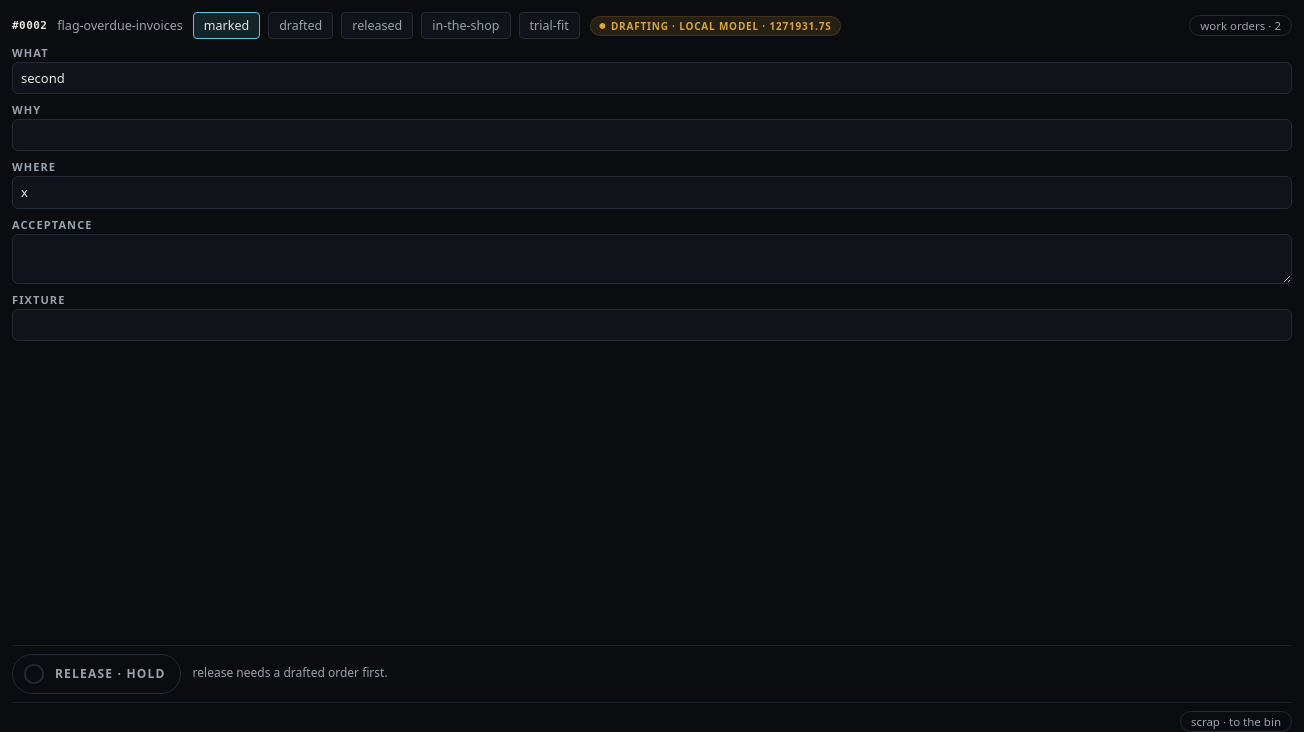
Test: TrayRegion — expanded: the spine › selecting a card collapses back to the order in hand
Click the button "work orders · 2" at (1241, 26), box [1189, 15, 1292, 36]
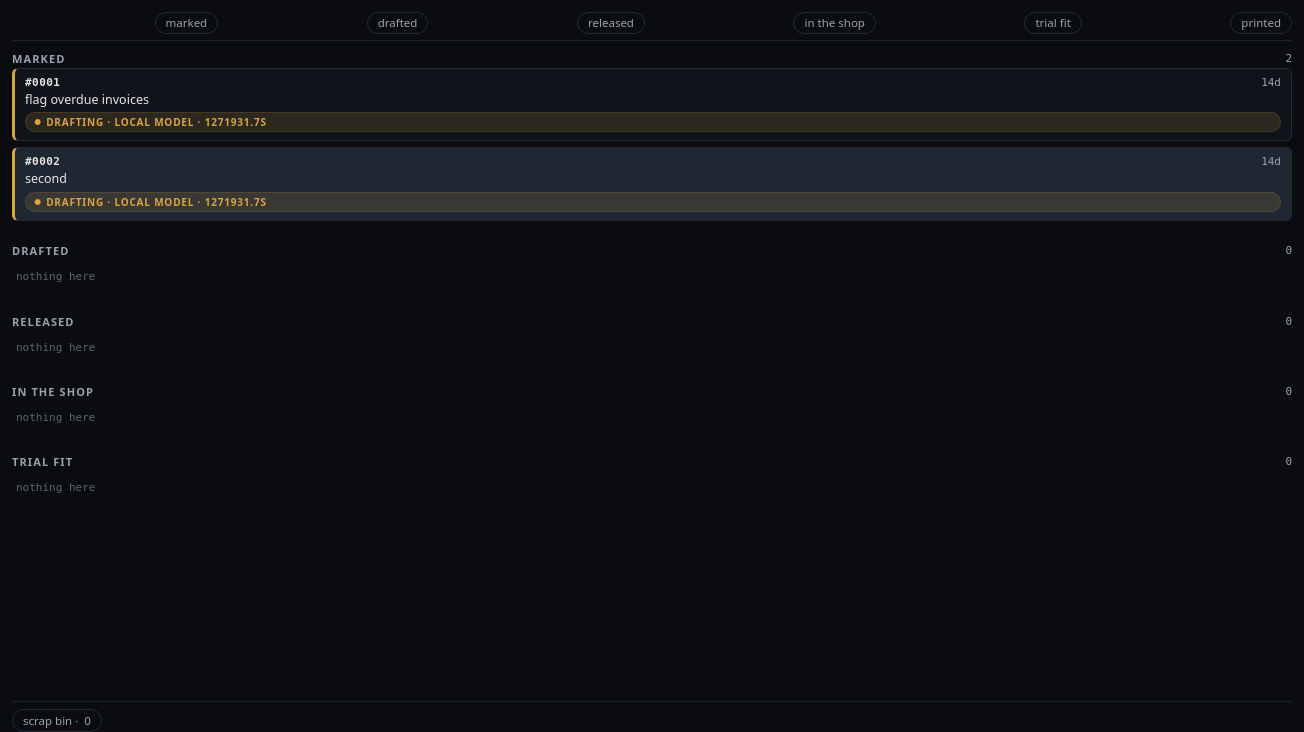
Click the text "#0002" at (43, 162), box [25, 156, 60, 167]
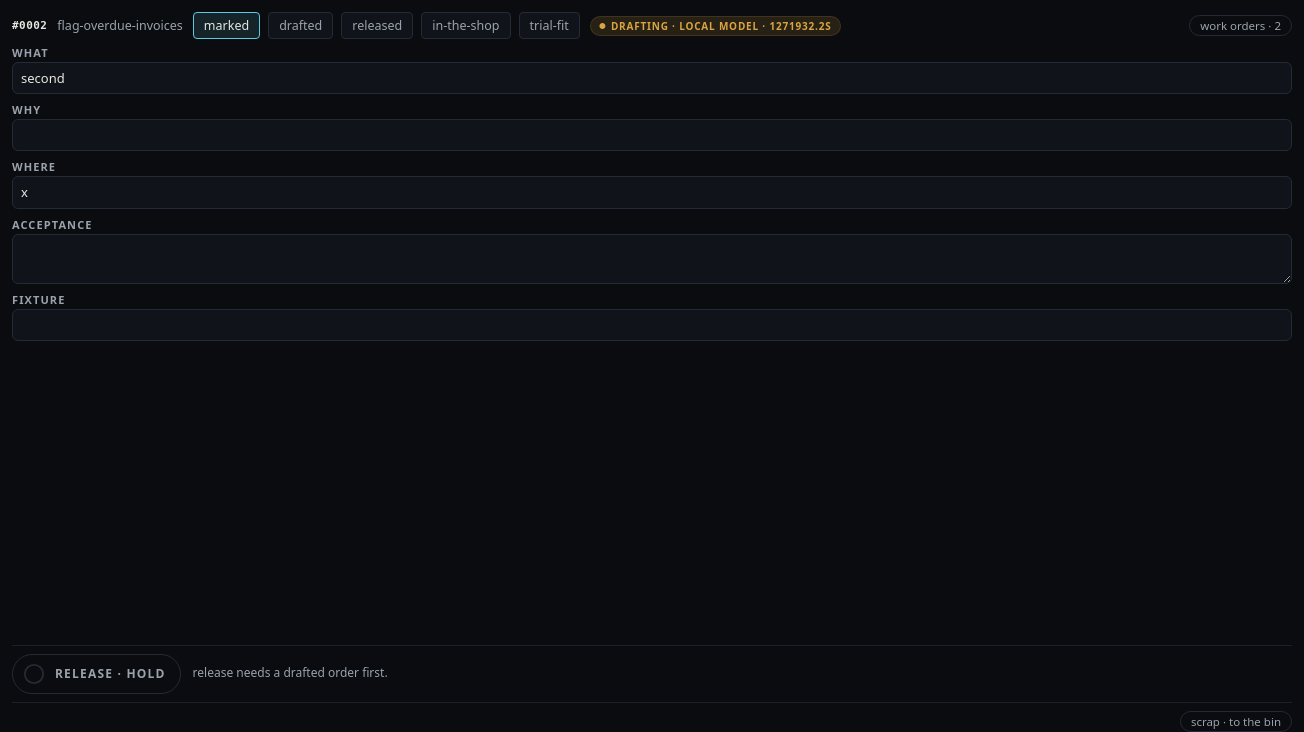
Check: the field showing "second" is shown, box [12, 62, 1292, 94]
